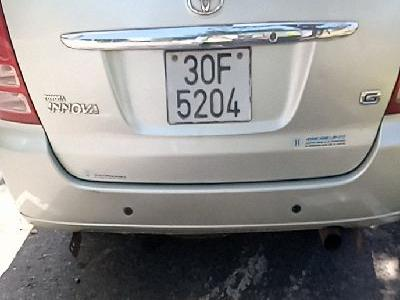lisence: (163, 46, 255, 125)
